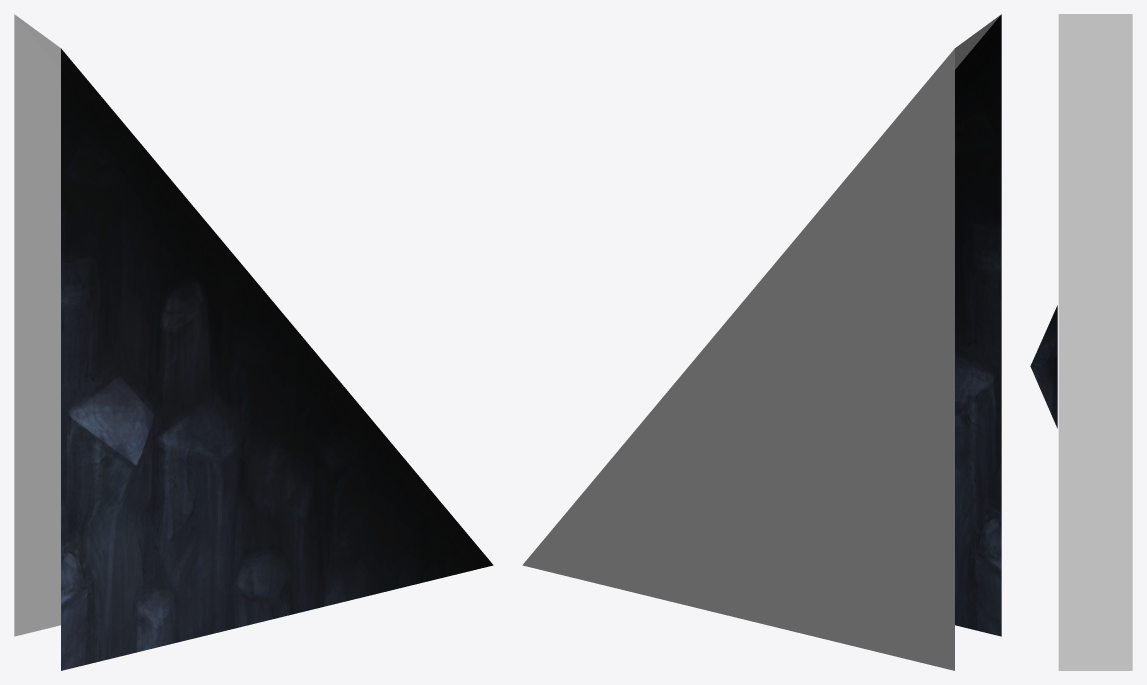
File: mine_fade_transition_01.fbx
3 views of the same model, side by side, from view 1: azimuth 30°, elevation 25°; view 2: azimuth 150°, elevation 25°; view 3: azimuth 270°, elevation 25° (orthographic). The views are drawn at different scales.
Parts seen in each view (by area): view 1: mine_fade_transition_01-0; view 2: mine_fade_transition_01-0; view 3: mine_fade_transition_01-0.
Boxes of the visible parts, <box> form: mine_fade_transition_01-0: <box>14,14,493,670</box>; mine_fade_transition_01-0: <box>522,14,1001,670</box>; mine_fade_transition_01-0: <box>1030,14,1132,670</box>.
Size of the model in its own units: 4 by 5.5 by 1.04.
